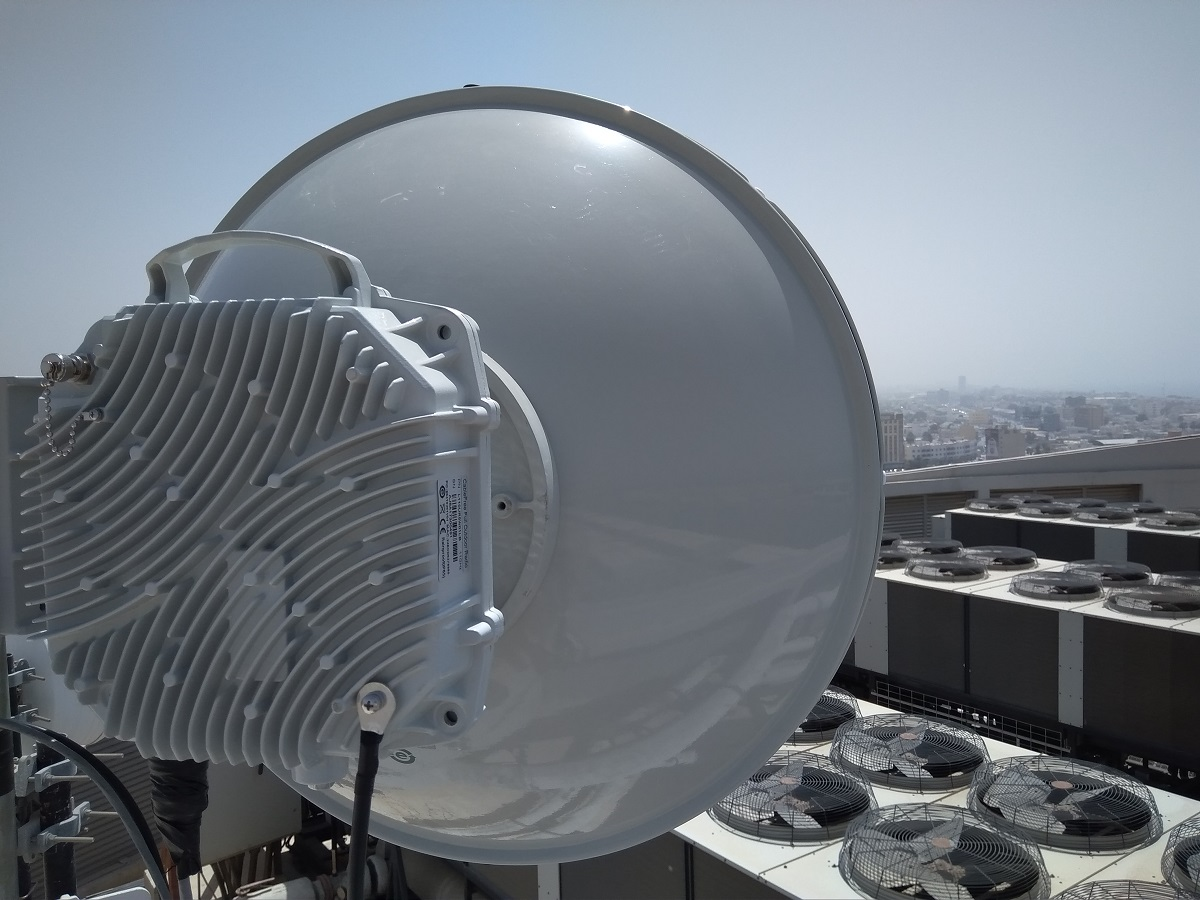ba: (107, 88, 900, 883)
